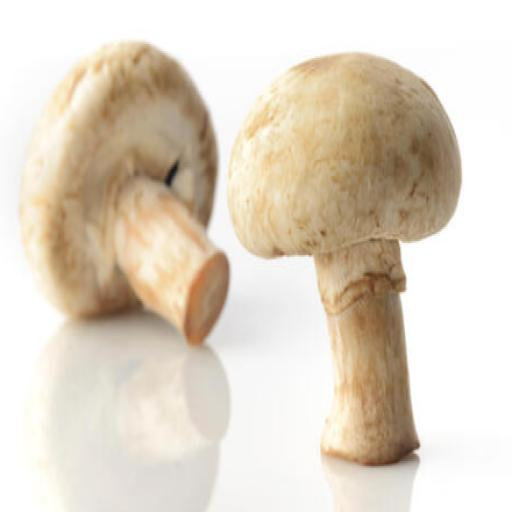mushroom: (230, 51, 465, 474), (11, 30, 234, 352)
